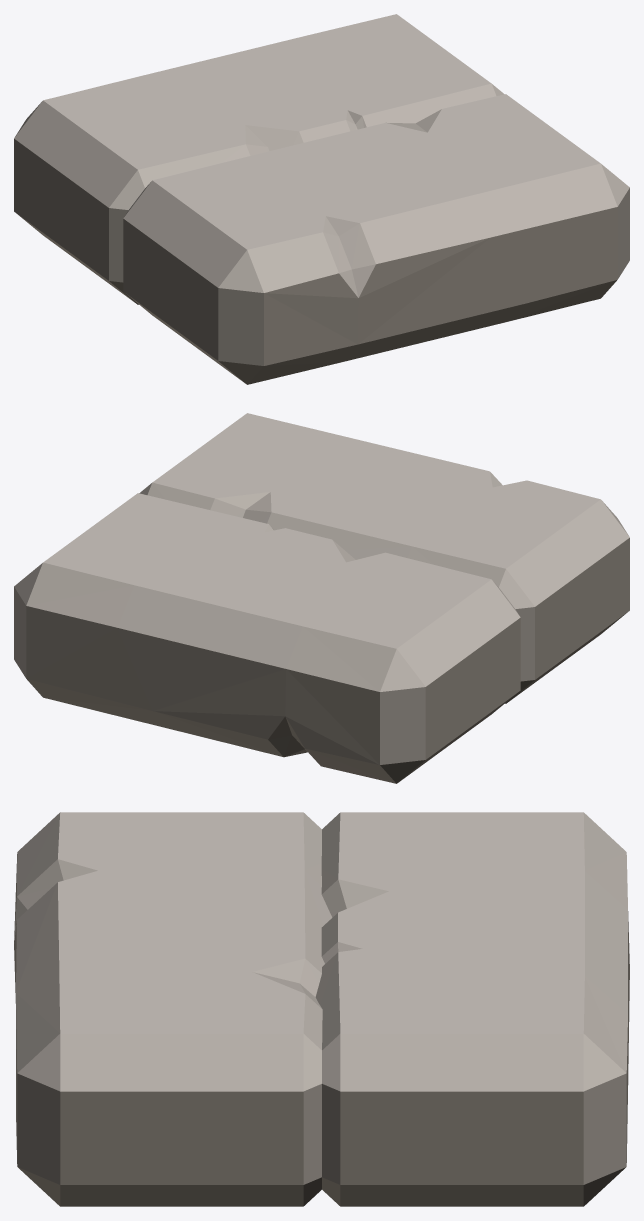
The model's file is m_kub_stone_floorTwoBrick.FBX.
The picture shows the model from 3 angles, top to bottom: view 1: azimuth 30°, elevation 25°; view 2: azimuth 150°, elevation 25°; view 3: azimuth 270°, elevation 25°; orthographic projection. The views are drawn at different scales.
Visible parts, largest first — view 1: m_kub_stone_floorTwoBrick; view 2: m_kub_stone_floorTwoBrick; view 3: m_kub_stone_floorTwoBrick.
Part boxes in pixels (x1=…): m_kub_stone_floorTwoBrick: x1=14, y1=14, x2=629, y2=384; m_kub_stone_floorTwoBrick: x1=14, y1=413, x2=629, y2=783; m_kub_stone_floorTwoBrick: x1=14, y1=812, x2=629, y2=1206.
Bounding box in the file's own units: 2.18 × 0.682 × 2.2.
